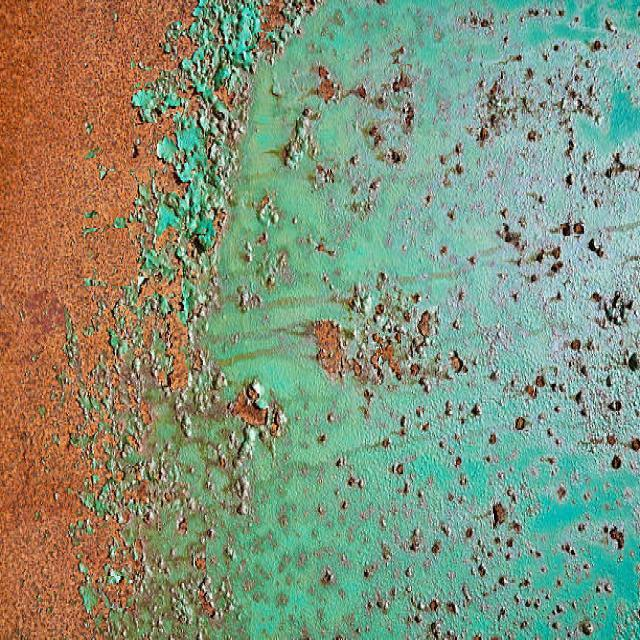Corrosion: (0, 0, 195, 640)
